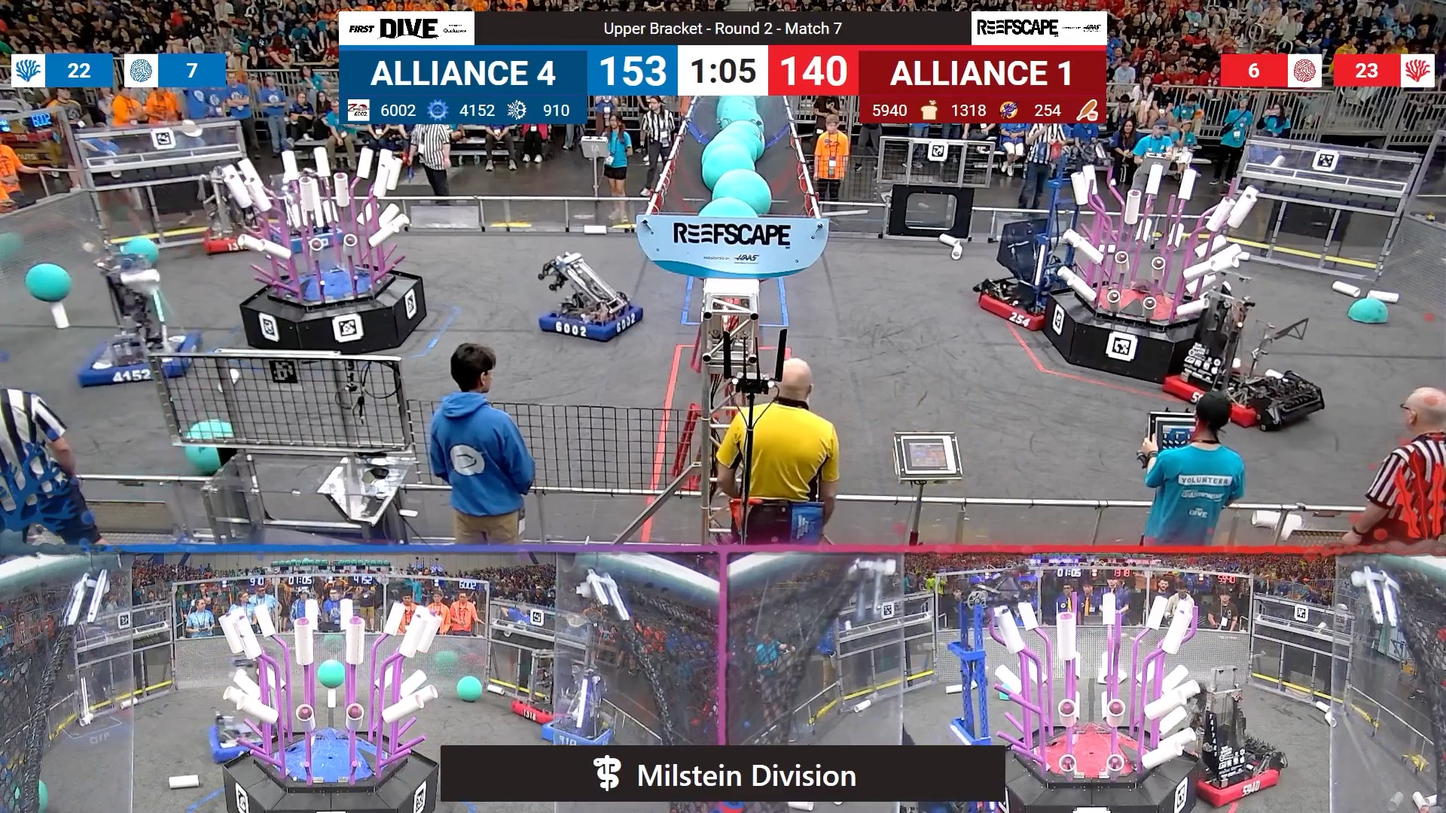bumpers: (1158, 364, 1321, 434), (79, 329, 206, 390), (1169, 751, 1288, 809), (536, 299, 653, 346), (974, 282, 1071, 334), (201, 716, 296, 763), (535, 718, 619, 748), (200, 226, 281, 255), (506, 695, 578, 725)
